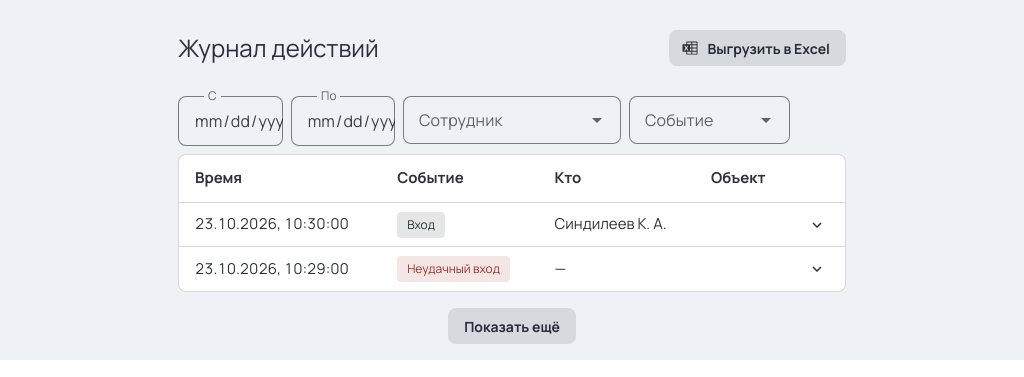
Test: AuditPage › показывает события и подгружает следующую страницу по курсору
The width and height of the screenshot is (1024, 377).
expect the text "Создание сотрудника" is not shown: met
Click the button "Показать ещё".
click(512, 326)  # box [448,308,576,344]
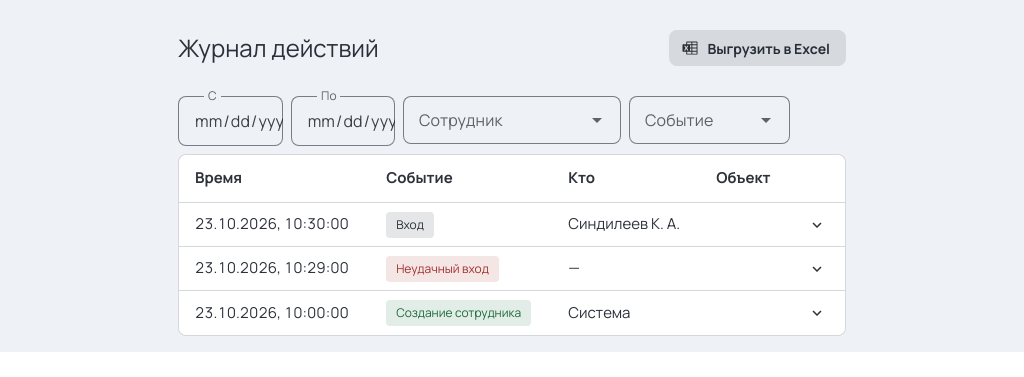
expect the text "Создание сотрудника" is shown: met, box [396,304,521,322]
